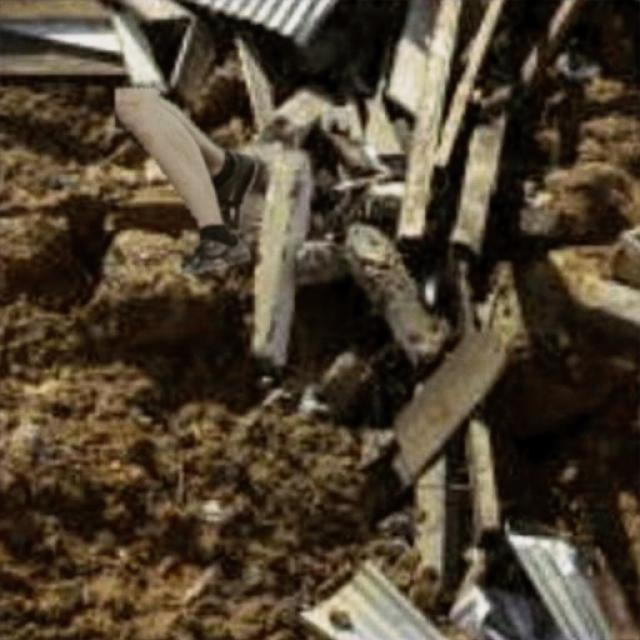Person in Rubble: (115, 88, 256, 272)
